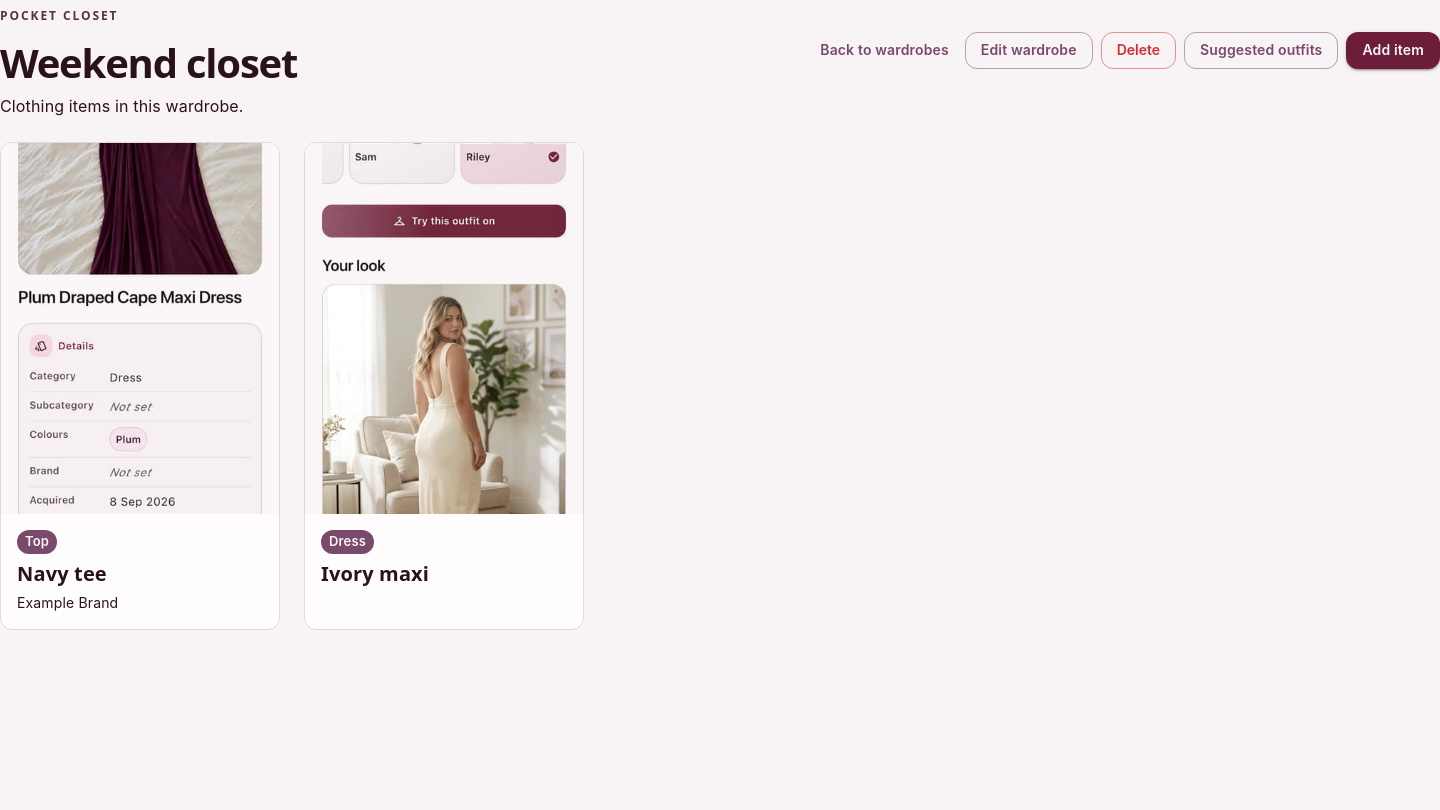
WardrobeDetailPage › opens a confirm dialog with the delete copy
Step 1. Click the button with aria-label "Delete this wardrobe" → point(1138, 50), box [1101, 32, 1176, 68]
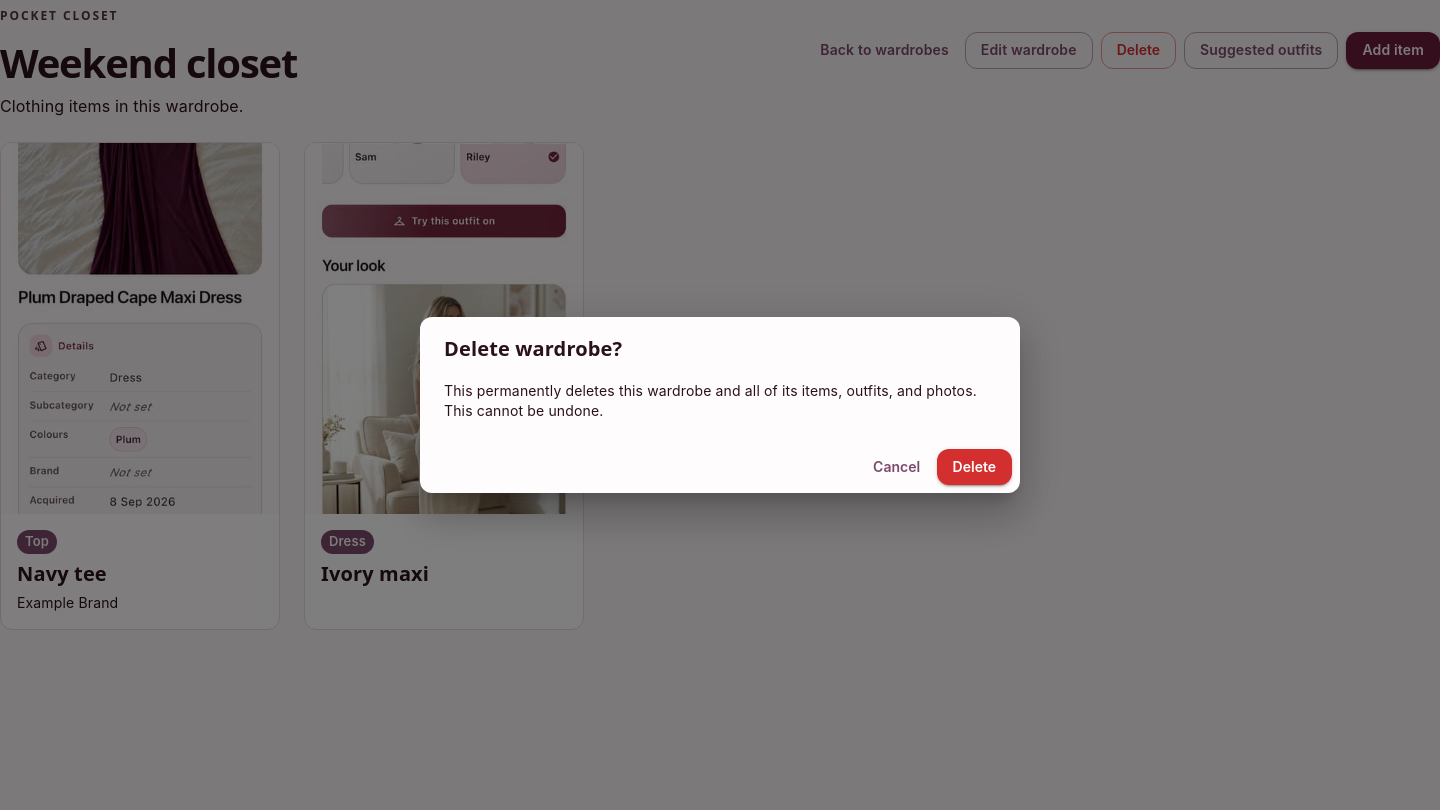
Result: the heading "Delete wardrobe?" is shown at [444, 335, 622, 362]
Result: the text "This permanently deletes this wardrobe and all of its items, outfits, and photos. This cannot be undone." is shown at [444, 382, 977, 419]
Result: the button "Cancel" is shown at [865, 449, 929, 485]
